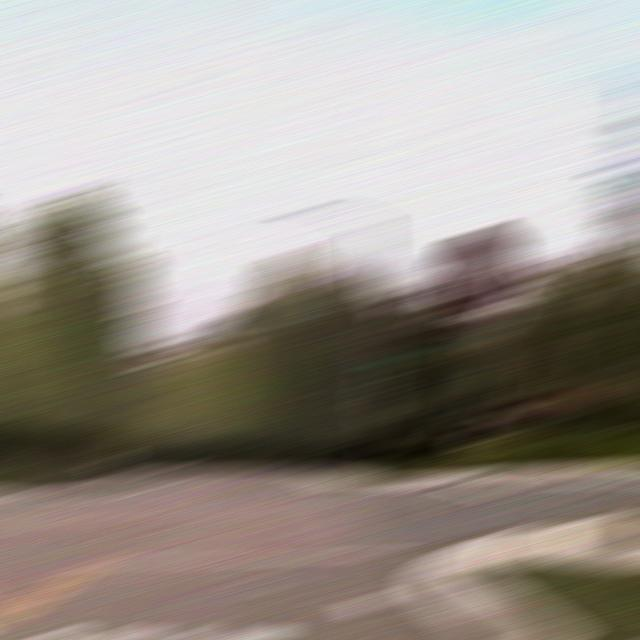stop_sign: (436, 228, 520, 307)
